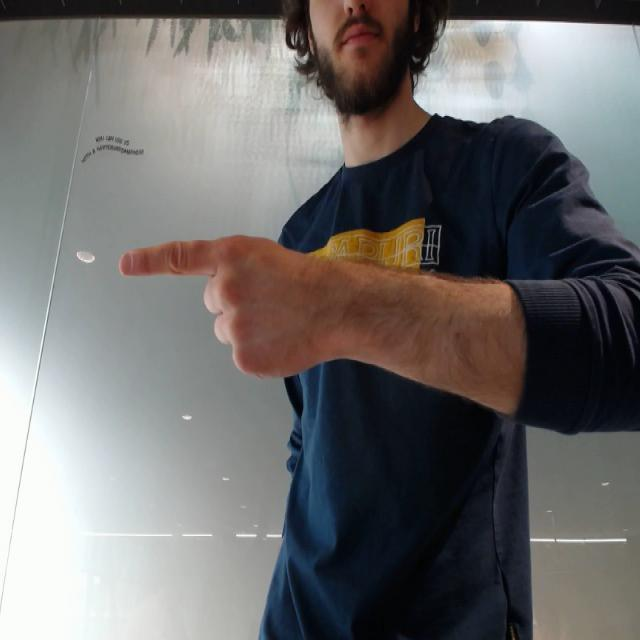left: (112, 222, 327, 388)
